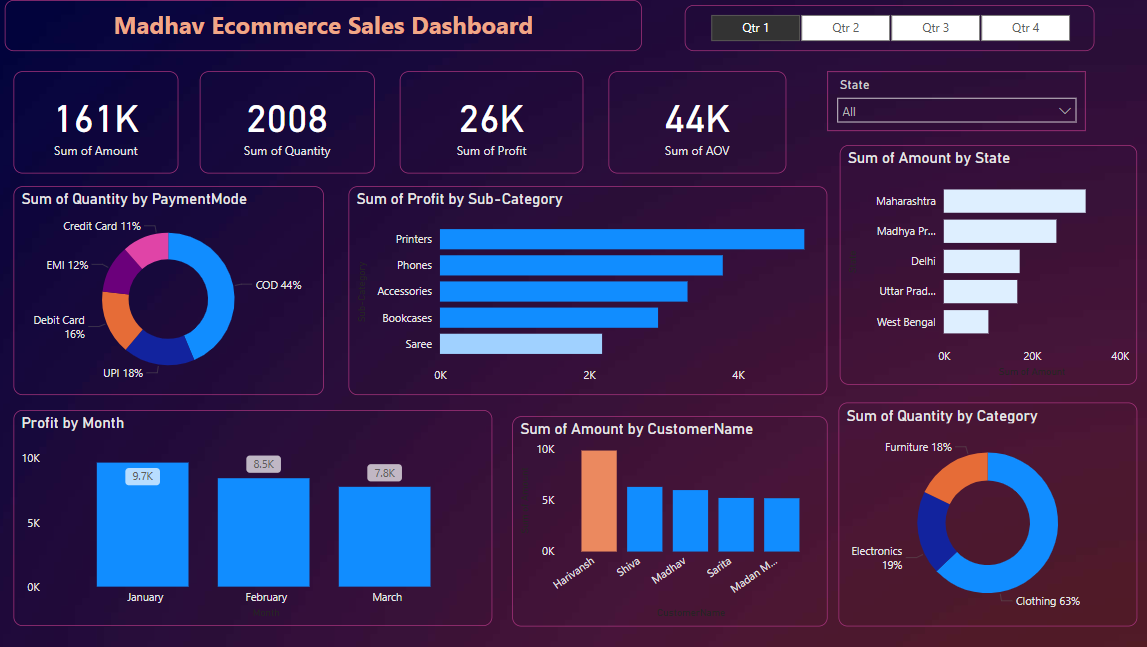

The page's visual inventory and layout, read from the dashboard file:
{"tool":"powerbi","page":{"name":"Page 1","canvas":[1280,720],"ordinal":0},"visuals":[{"type":"textbox","box":[10,0,493,45],"z":0},{"type":"lineStackedColumnComboChart","title":"Profit by Month","fields":{"Category":["Orders.Order Date.Variation.Date Hierarchy.Month"],"Y":["Details.Profit"]},"box":[10,233,532,224],"z":1000},{"type":"barChart","fields":{"Category":["Details.Sub-Category"],"Y":["Details.Profit"]},"box":[10,479,532,218],"z":2000},{"type":"donutChart","fields":{"Category":["Details.Category"],"Y":["Details.Quantity"]},"box":[565,479,353,223],"z":3000},{"type":"donutChart","fields":{"Y":["Details.Quantity"],"Category":["Details.PaymentMode"]},"box":[565,233,351,229],"z":4000},{"type":"card","fields":{"Values":["Details.Amount"]},"box":[36,78,184,114],"z":5000},{"type":"card","fields":{"Values":["Details.Quantity"]},"box":[250,78,194,114],"z":6000},{"type":"card","fields":{"Values":["Details.Profit"]},"box":[472,79,204,114],"z":7000},{"type":"card","fields":{"Values":["Details.AOV"]},"box":[710,79,197,114],"z":8000},{"type":"barChart","fields":{"Category":["Orders.State"],"Y":["Details.Amount"]},"box":[938,93,330,267],"z":9000},{"type":"columnChart","fields":{"Y":["Details.Amount"],"Category":["Orders.CustomerName"]},"box":[938,412,330,253],"z":10000},{"type":"slicer","fields":{"Values":["Orders.Order Date.Variation.Date Hierarchy.Quarter"]},"box":[524,6,453,39],"z":11000},{"type":"slicer","fields":{"Values":["Orders.State"]},"box":[988,2,253,56],"z":12000}]}

Visuals, with their boxes in screenshot pixels (x1, y1, x2, y2), scaled from the page's 1280x720 canvas onto the 1147x647 screenshot:
textbox: 9, 0, 451, 40
"Profit by Month" lineStackedColumnComboChart: 9, 209, 486, 411
barChart - Details.Sub-Category x Details.Profit: 9, 430, 486, 626
donutChart - Details.Category x Details.Quantity: 506, 430, 823, 631
donutChart - Details.Quantity x Details.PaymentMode: 506, 209, 821, 415
card - Details.Amount: 32, 70, 197, 173
card - Details.Quantity: 224, 70, 398, 173
card - Details.Profit: 423, 71, 606, 173
card - Details.AOV: 636, 71, 813, 173
barChart - Orders.State x Details.Amount: 841, 84, 1136, 324
columnChart - Details.Amount x Orders.CustomerName: 841, 370, 1136, 598
slicer - Orders.Order Date.Variation.Date Hierarchy.Quarter: 470, 5, 875, 40
slicer - Orders.State: 885, 2, 1112, 52
